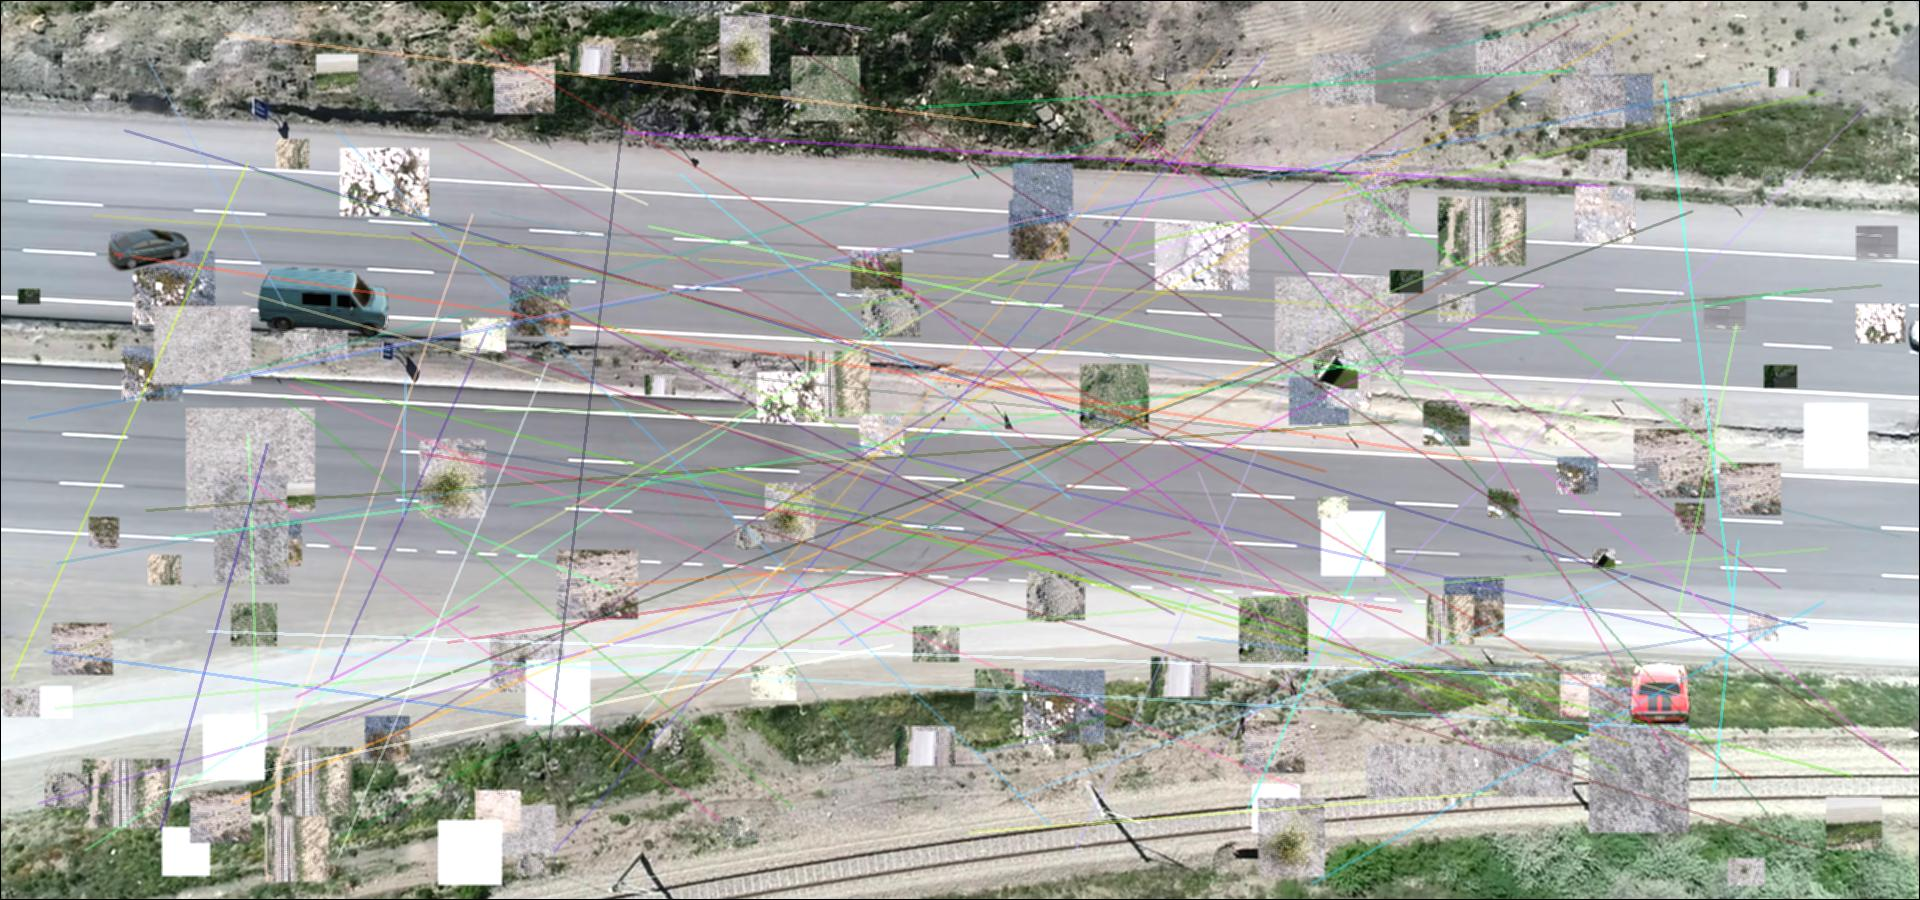arac: (256, 264, 389, 340), (1622, 659, 1692, 724), (105, 229, 191, 272)
